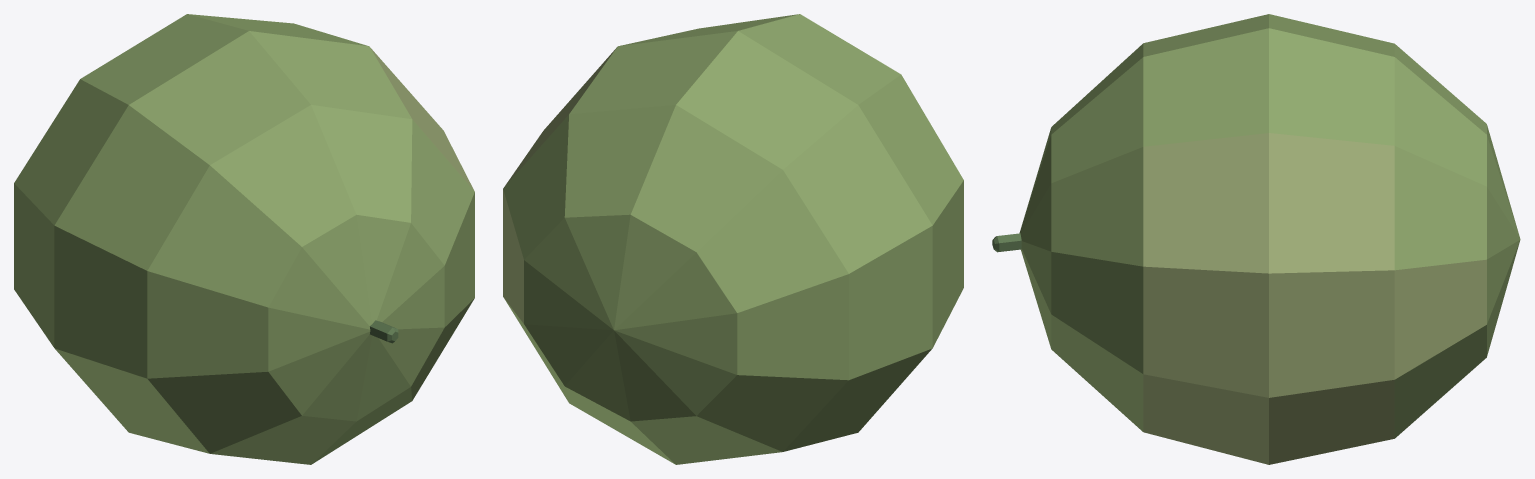
File: guava.glb
The picture shows the model from 3 angles, left to right: view 1: azimuth 30°, elevation 25°; view 2: azimuth 150°, elevation 25°; view 3: azimuth 270°, elevation 25°; orthographic projection.
Parts seen in each view (by area): view 1: guava; view 2: guava; view 3: guava.
Boxes of the visible parts, x1,y1,x2,y2 form: guava: (14, 14, 474, 464); guava: (503, 14, 963, 464); guava: (992, 14, 1520, 464).
Size of the model in its own units: 0.0761 by 0.0779 by 0.0882.
